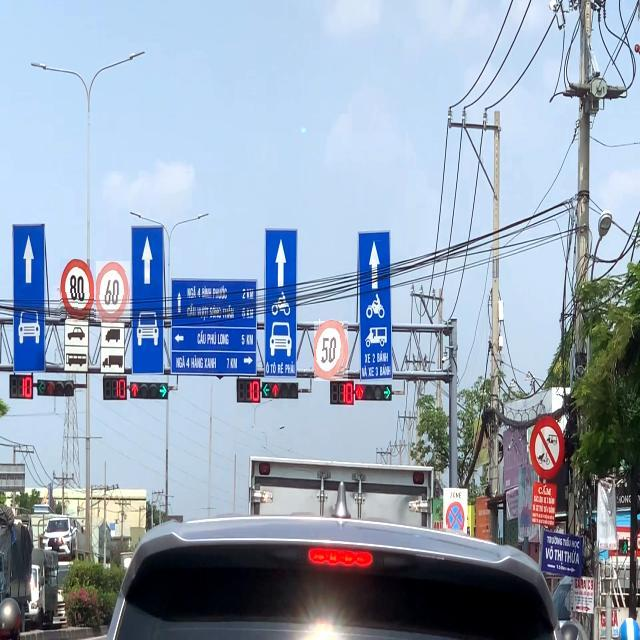P-127: (60, 260, 94, 322), (96, 261, 130, 322), (314, 321, 348, 381)
P-130: (446, 502, 464, 535)
